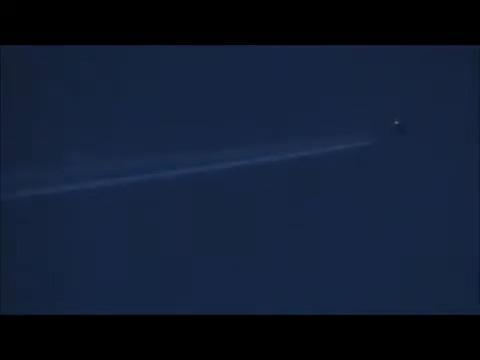Plane: (227, 108, 432, 183)
